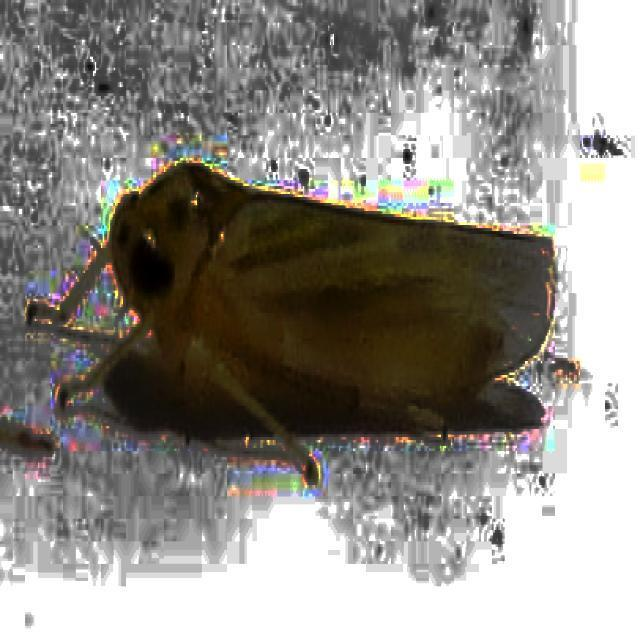green-leafhopper: (105, 180, 538, 420)
